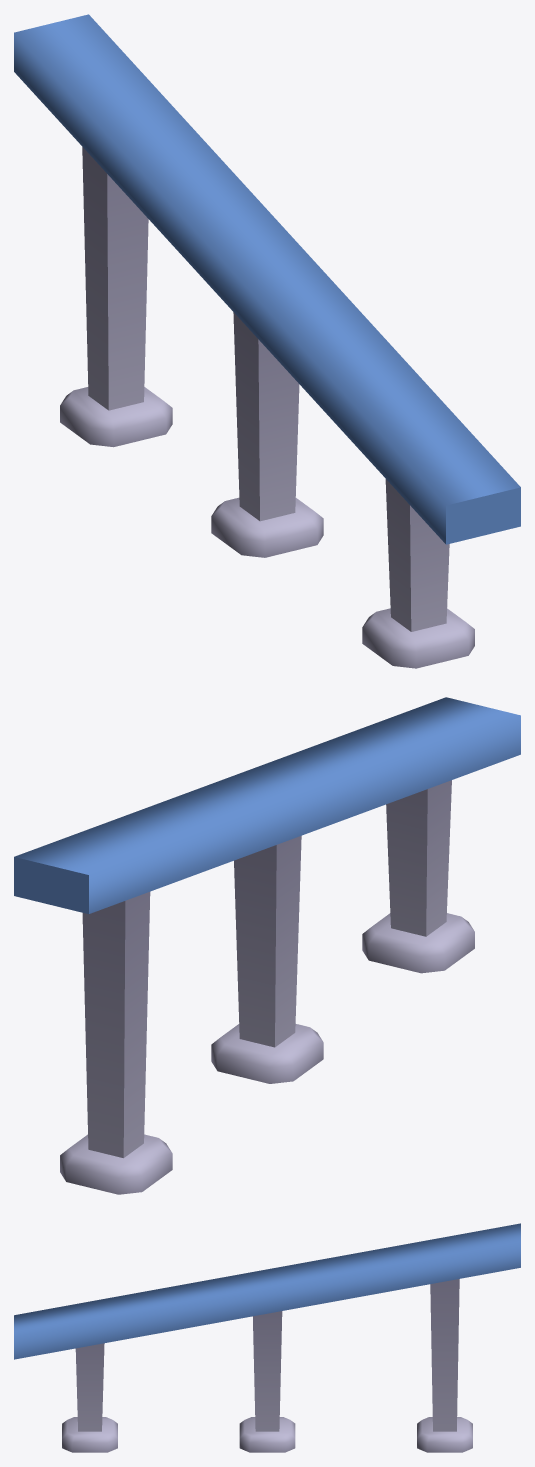
The model's file is rail-slope.fbx.
3 views of the same model, one above another, from view 1: azimuth 30°, elevation 25°; view 2: azimuth 150°, elevation 25°; view 3: azimuth 270°, elevation 25° (orthographic). The views are drawn at different scales.
Visible parts, largest first — view 1: rail-slope; view 2: rail-slope; view 3: rail-slope.
Part boxes in pixels (x1,y1,x2,y2): rail-slope: [14, 14, 520, 668]; rail-slope: [14, 697, 520, 1194]; rail-slope: [14, 1223, 520, 1452].
Size of the model in its own units: 11 by 45 by 100.
Materials: 1 (1 with a texture image).
